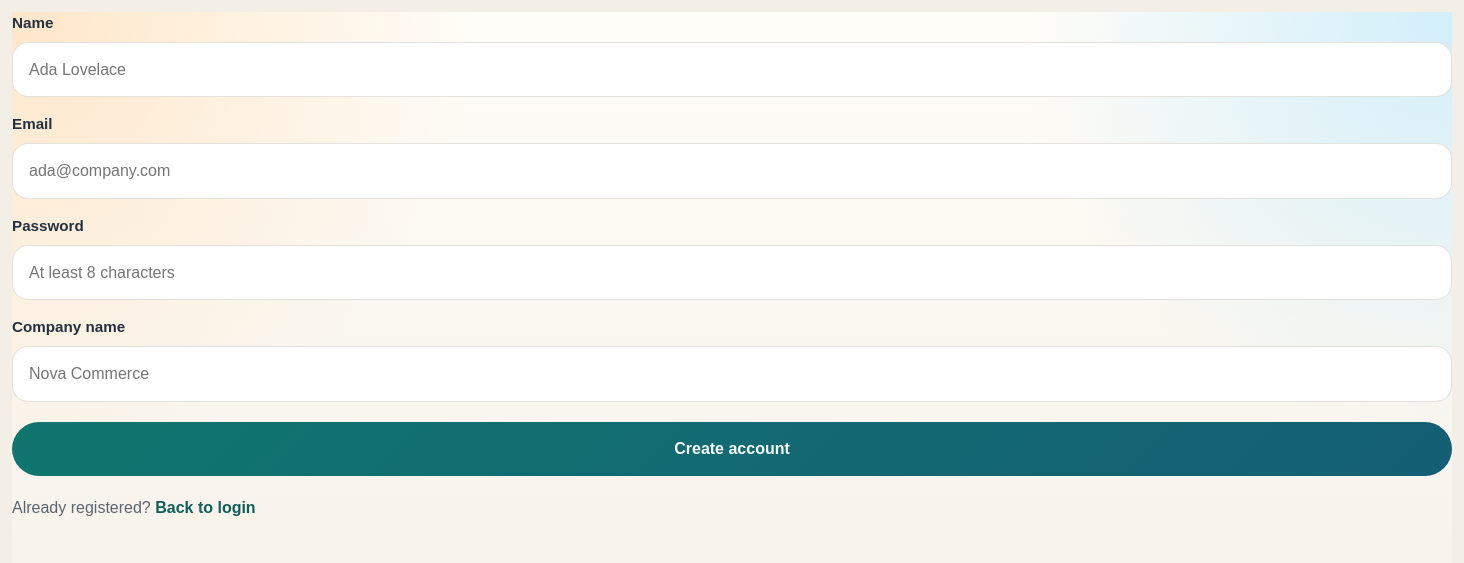
Test: RegisterForm › validates email format
Type "Ada" into the field labelled "Name" at x=732, y=70, box left=12, top=42, right=1452, bottom=97
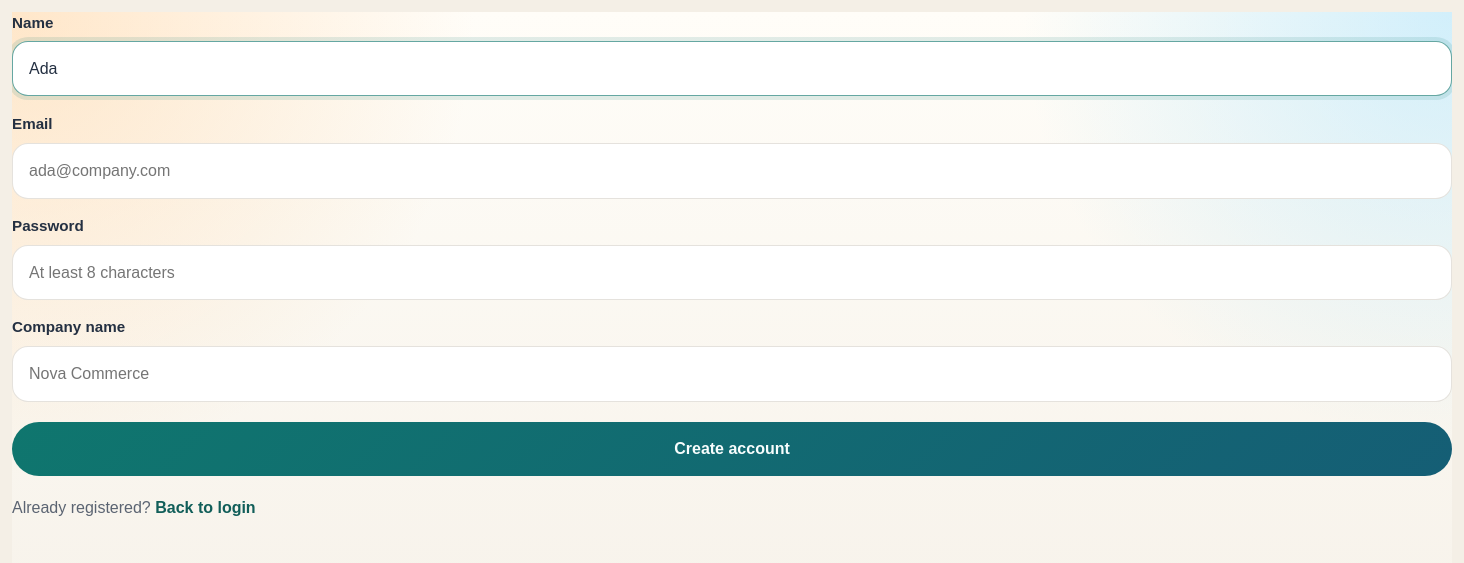
Type "invalid-email" into the field labelled "Email" at x=732, y=171, box left=12, top=143, right=1452, bottom=199
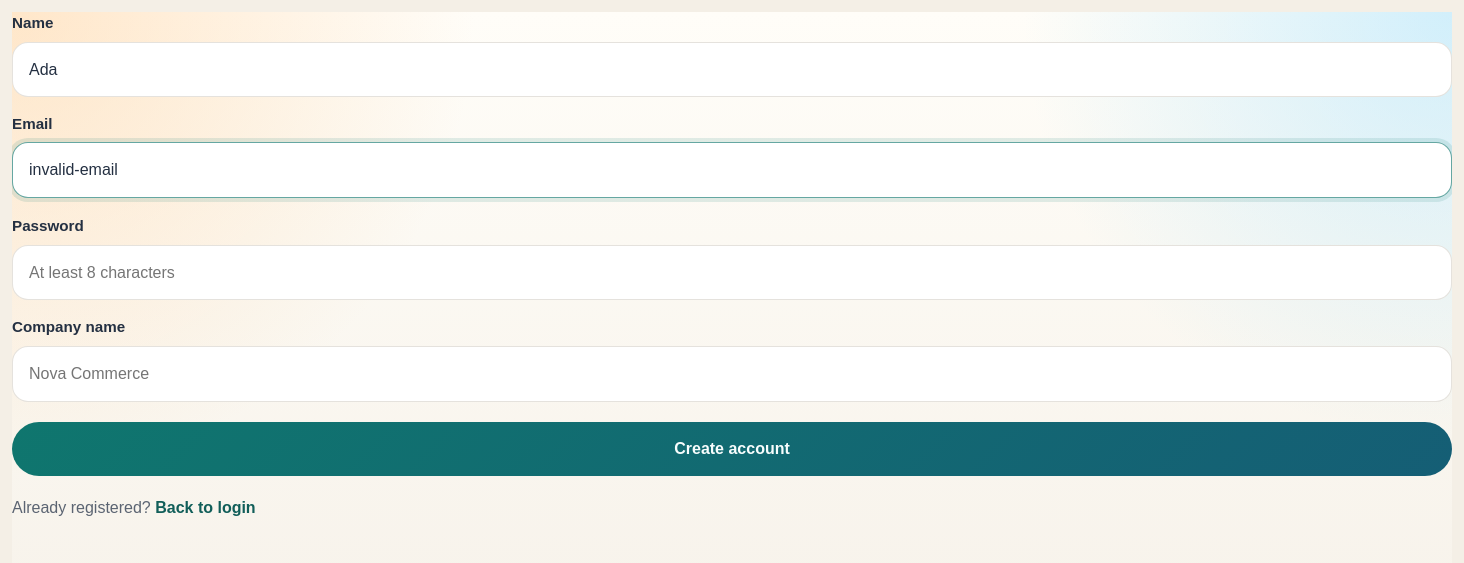
Type "password123" into the password field labelled "Password" at x=732, y=272, box left=12, top=245, right=1452, bottom=300
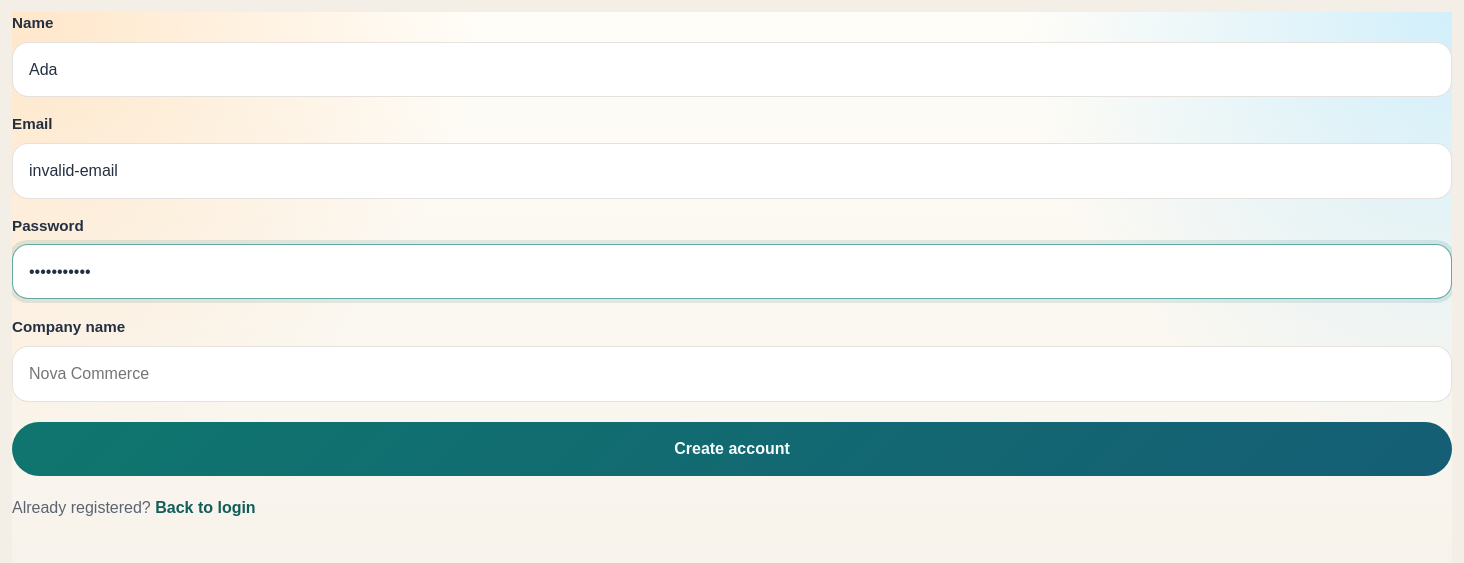
Type "Nova" into the field labelled "Company name" at x=732, y=374, box left=12, top=346, right=1452, bottom=402
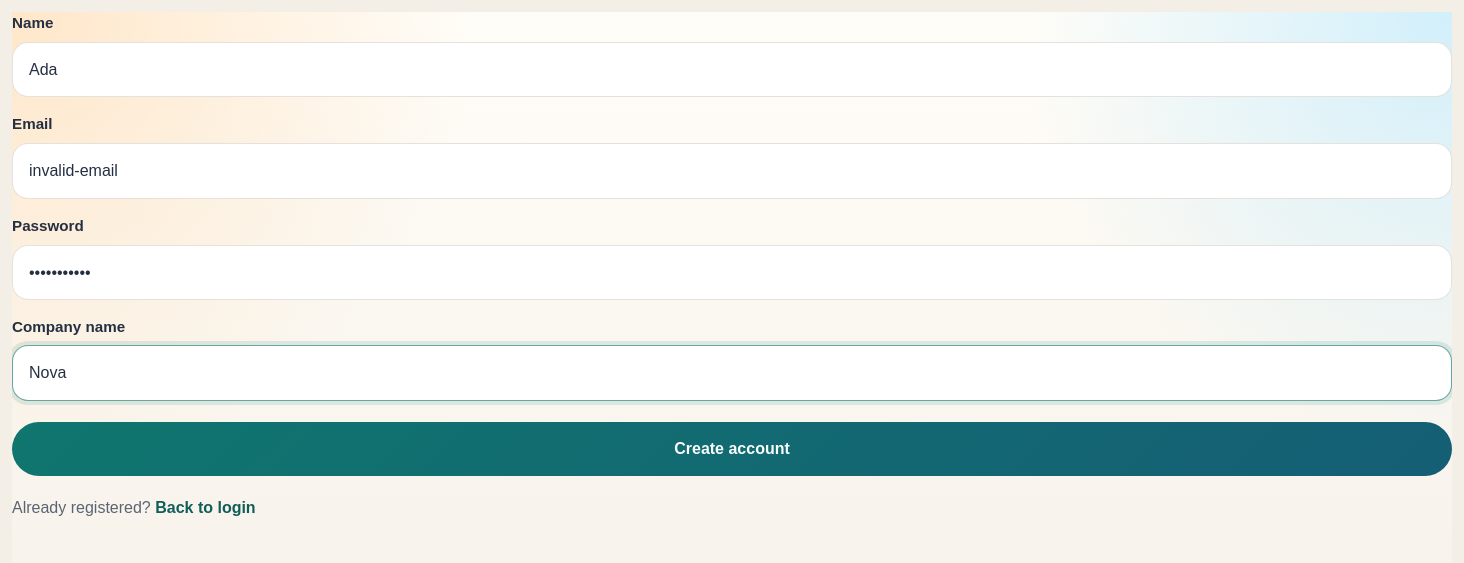
Click the button "Create account" at x=732, y=449, box left=12, top=422, right=1452, bottom=476
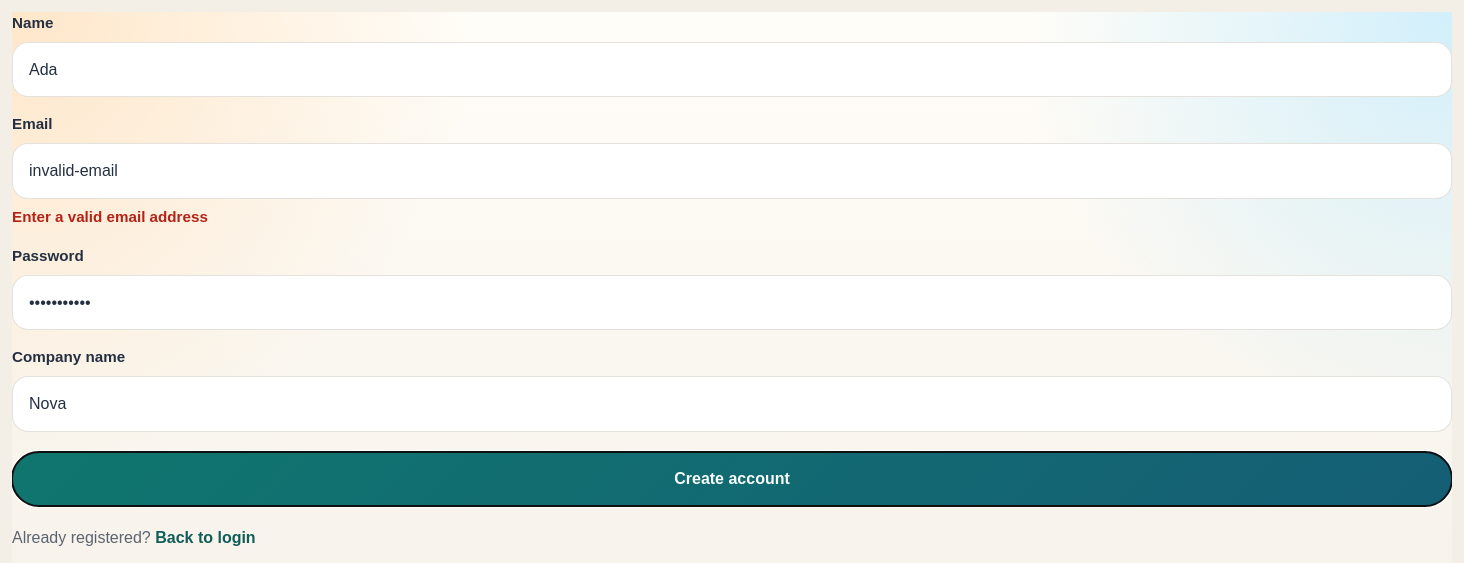
Expected: the text "Enter a valid email address" is shown, left=12, top=208, right=208, bottom=225
